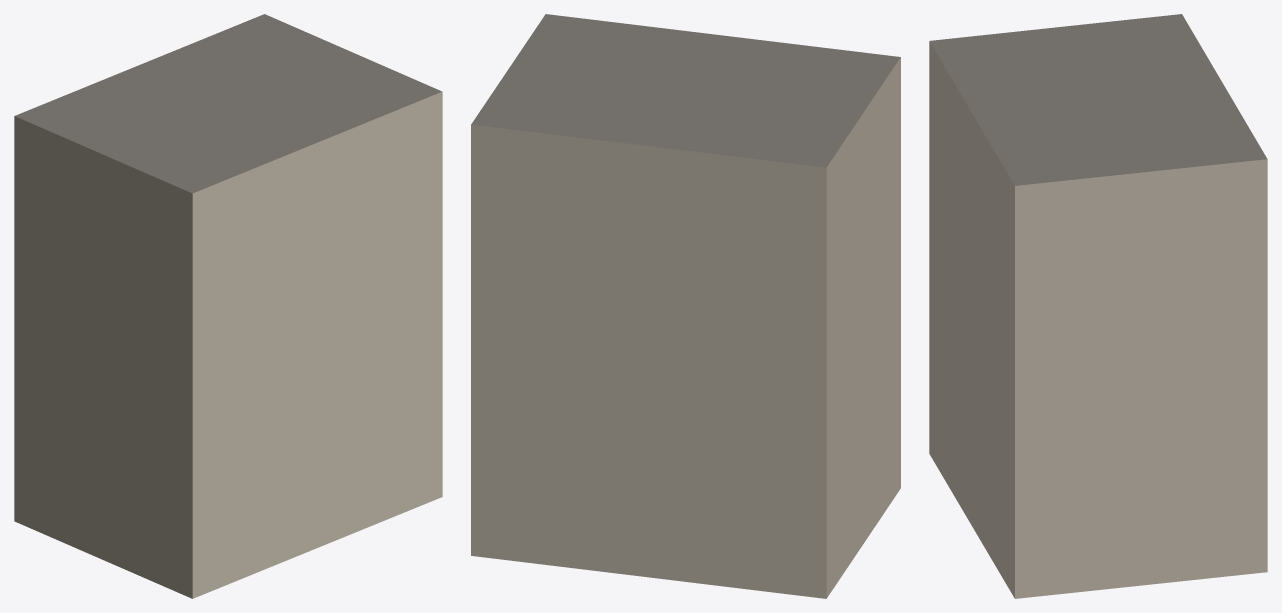
The picture shows the model from 3 angles, left to right: view 1: azimuth 30°, elevation 25°; view 2: azimuth 150°, elevation 25°; view 3: azimuth 270°, elevation 25°; orthographic projection. The views are drawn at different scales.
Visible parts, largest first — view 1: HP-w378107148; view 2: HP-w378107148; view 3: HP-w378107148.
Boxes of the visible parts, bbox=[...] form: HP-w378107148: bbox=[14, 14, 442, 598]; HP-w378107148: bbox=[471, 14, 900, 598]; HP-w378107148: bbox=[929, 14, 1267, 598].
Size of the model in its own units: 13.4 by 15 by 11.13.
